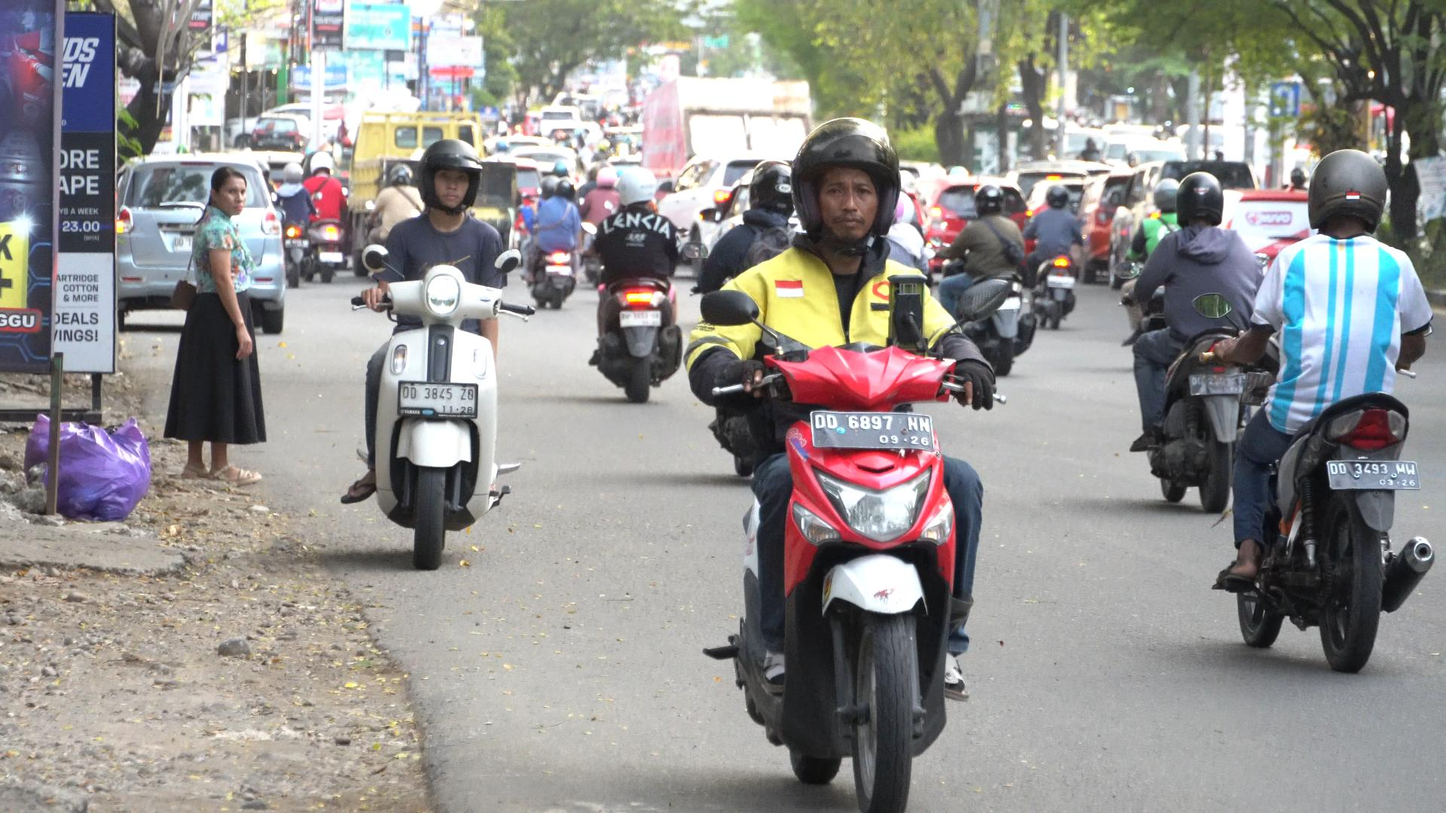number-plate: (808, 409, 935, 450), (399, 377, 475, 421)
